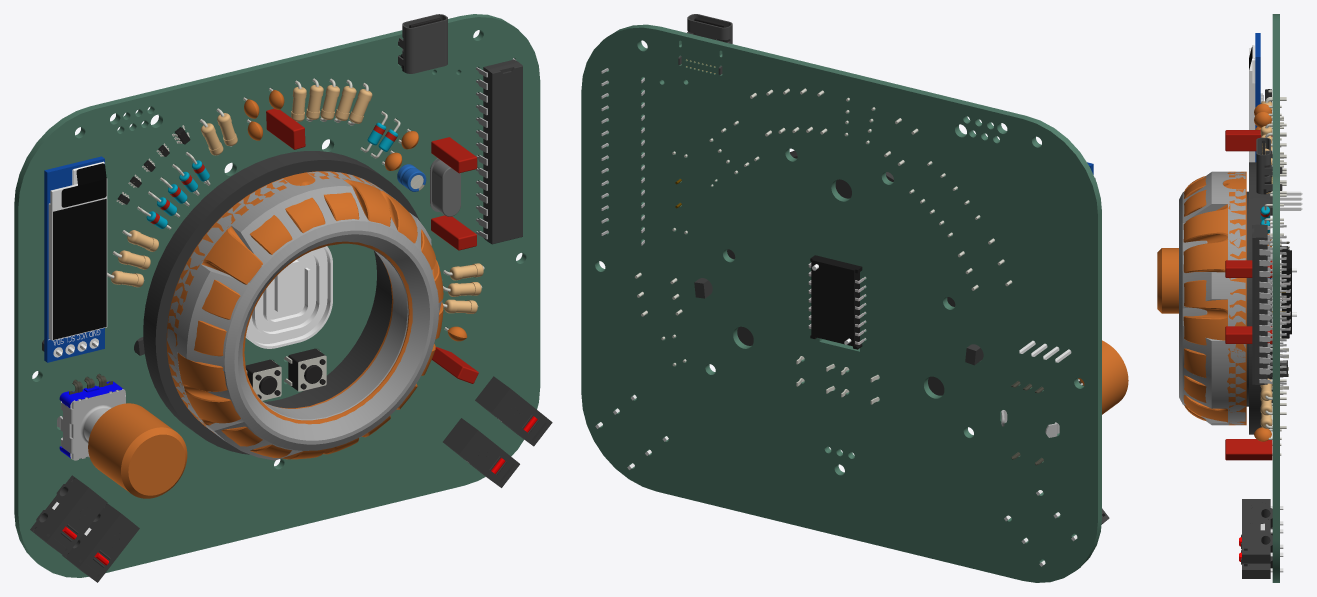
Rendered from AkiraBall Assembly.fbx.
3 views of the same model, side by side, from view 1: azimuth 30°, elevation 25°; view 2: azimuth 150°, elevation 25°; view 3: azimuth 270°, elevation 25° (orthographic). The views are drawn at different scales.
Parts seen in each view (by area): view 1: Body1 (×20), Body3, Body2; view 2: Body1 (×4), Body2; view 3: Body1 (×19), Body3, Body2, Body8 (×2).
Part boxes in pixels (bbox=[...]): Body1 (×20): bbox=[14, 14, 552, 582]; Body3: bbox=[167, 171, 442, 460]; Body2: bbox=[134, 151, 419, 454]; Body1 (×4): bbox=[581, 14, 1128, 582]; Body2: bbox=[694, 150, 983, 395]; Body1 (×19): bbox=[1157, 14, 1291, 582]; Body3: bbox=[1179, 171, 1245, 425]; Body2: bbox=[1249, 162, 1287, 434]; Body8 (×2): bbox=[1257, 499, 1283, 578].
Size of the model in its own units: 110 by 96.51 by 30.95.
